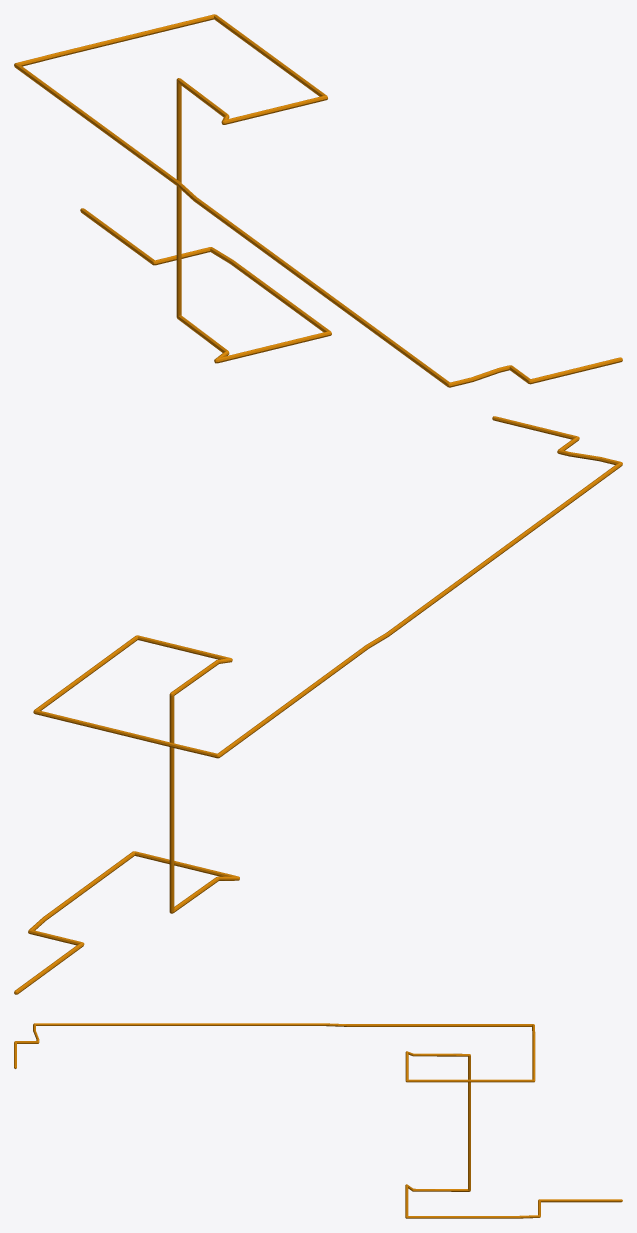
3 renders of one model, top to bottom at view 1: azimuth 30°, elevation 25°; view 2: azimuth 150°, elevation 25°; view 3: azimuth 270°, elevation 25°, orthographic. The views are drawn at different scales.
Size of the model in its own units: 928 by 1020 by 4081.
